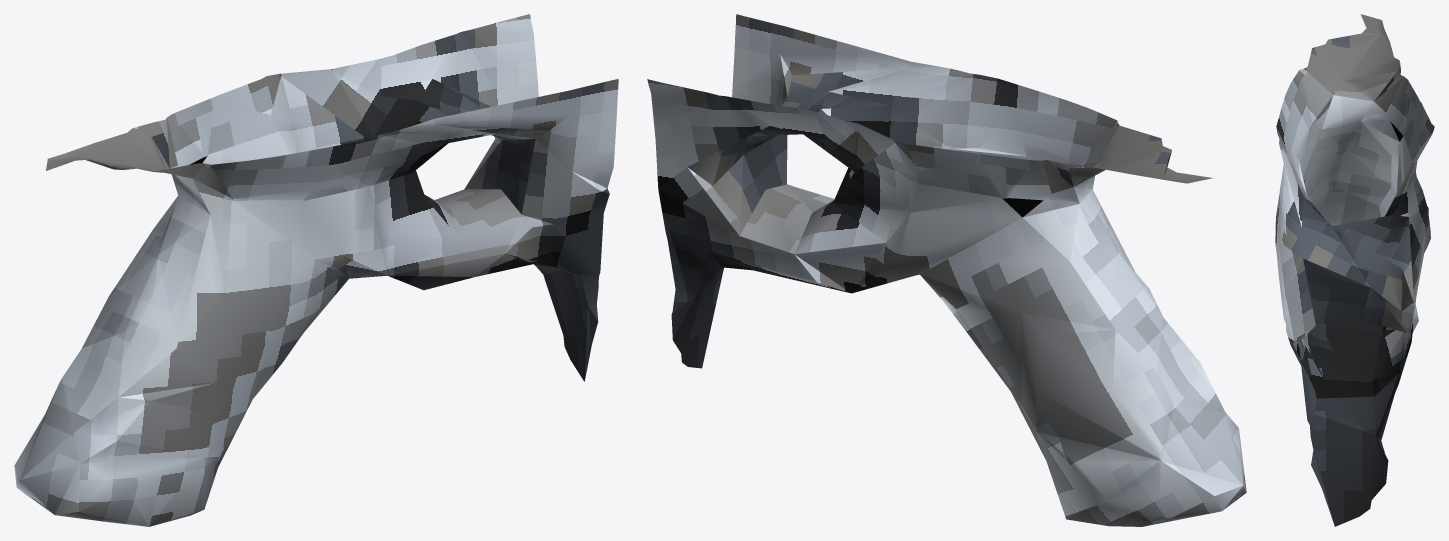
The model's file is empunadura.glb.
3 renders of one model, left to right at view 1: azimuth 30°, elevation 25°; view 2: azimuth 150°, elevation 25°; view 3: azimuth 270°, elevation 25°, orthographic. The views are drawn at different scales.
Parts seen in each view (by area): view 1: geometry_0; view 2: geometry_0; view 3: geometry_0.
Boxes of the visible parts, <box> form: geometry_0: <box>14,14,618,526</box>; geometry_0: <box>647,14,1246,526</box>; geometry_0: <box>1275,14,1434,526</box>.
Size of the model in its own units: 0.2449 by 0.1576 by 0.0698.
1 material, 1 textured.
